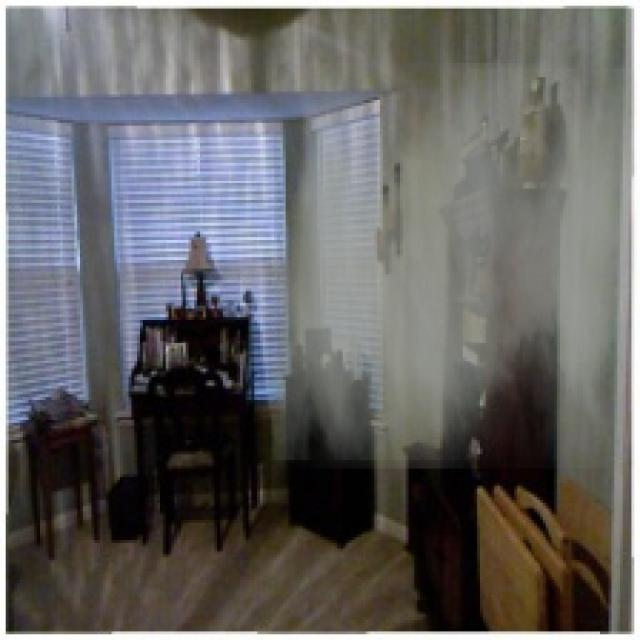smoke: (272, 63, 637, 468)
